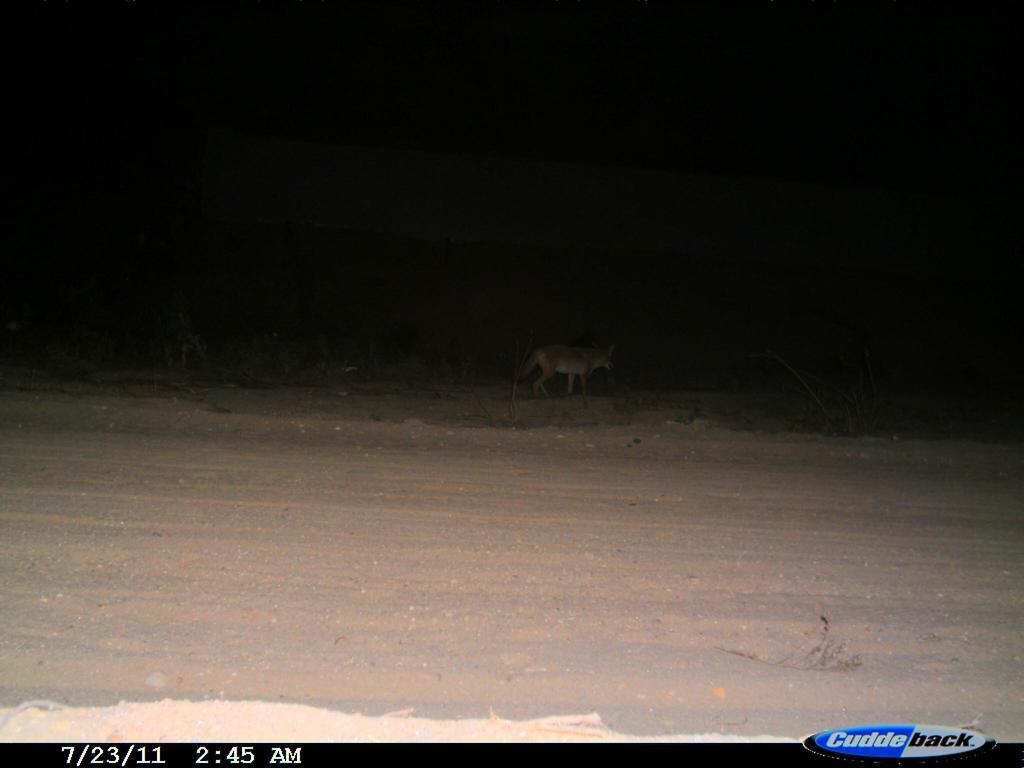coyote: (514, 329, 624, 406)
